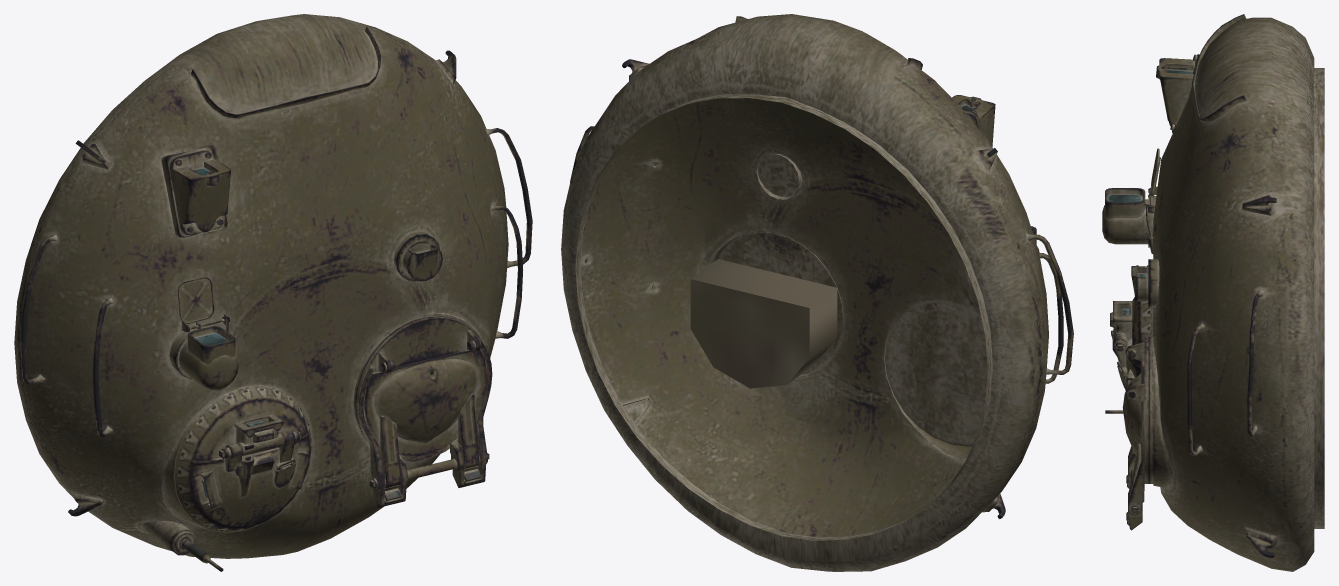
File: Turret_02.glb
3 views of the same model, side by side, from view 1: azimuth 30°, elevation 25°; view 2: azimuth 150°, elevation 25°; view 3: azimuth 270°, elevation 25° (orthographic). The views are drawn at different scales.
Visible parts, largest first — view 1: set_0_group_0; view 2: set_0_group_0; view 3: set_0_group_0.
Boxes of the visible parts, box(x1,y1,x2,y2) form: set_0_group_0: box(14, 14, 532, 571); set_0_group_0: box(561, 14, 1073, 571); set_0_group_0: box(1102, 14, 1324, 571).
Bounding box in the file's own units: 2.74 × 2.76 × 1.08.
1 material, 1 textured.
